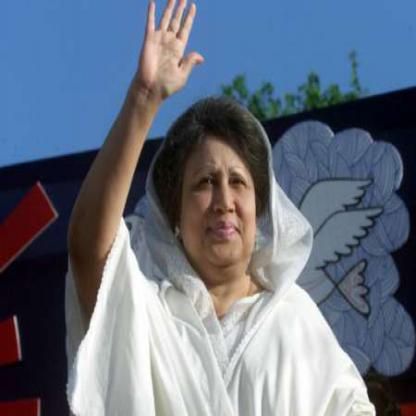face: (177, 112, 262, 271)
